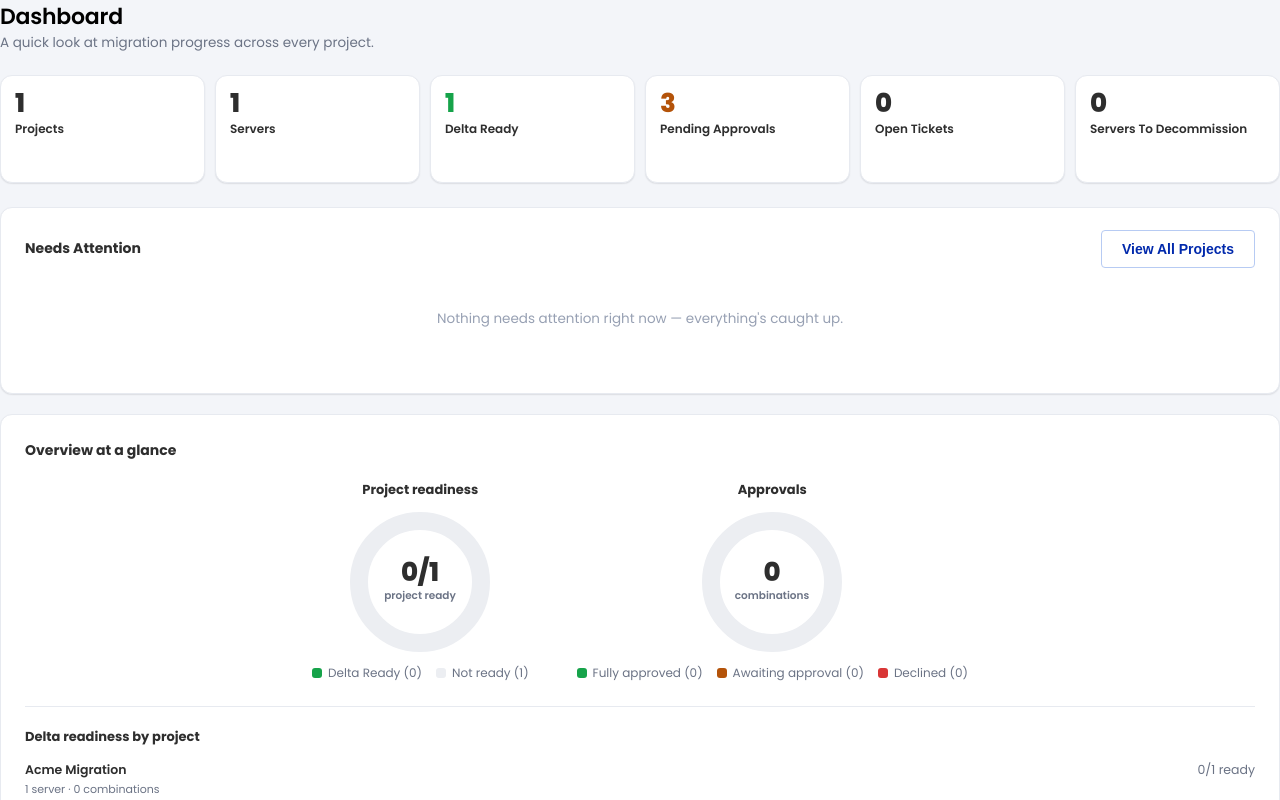
Dashboard server popups › the Delta Ready list names only the ready combinations, not all of them
The image size is (1280, 800).
Expected: the heading "Dashboard" is shown, left=0, top=1, right=123, bottom=32
Click the button "1 Delta Ready".
click(532, 129)  # box left=430, top=75, right=635, bottom=183
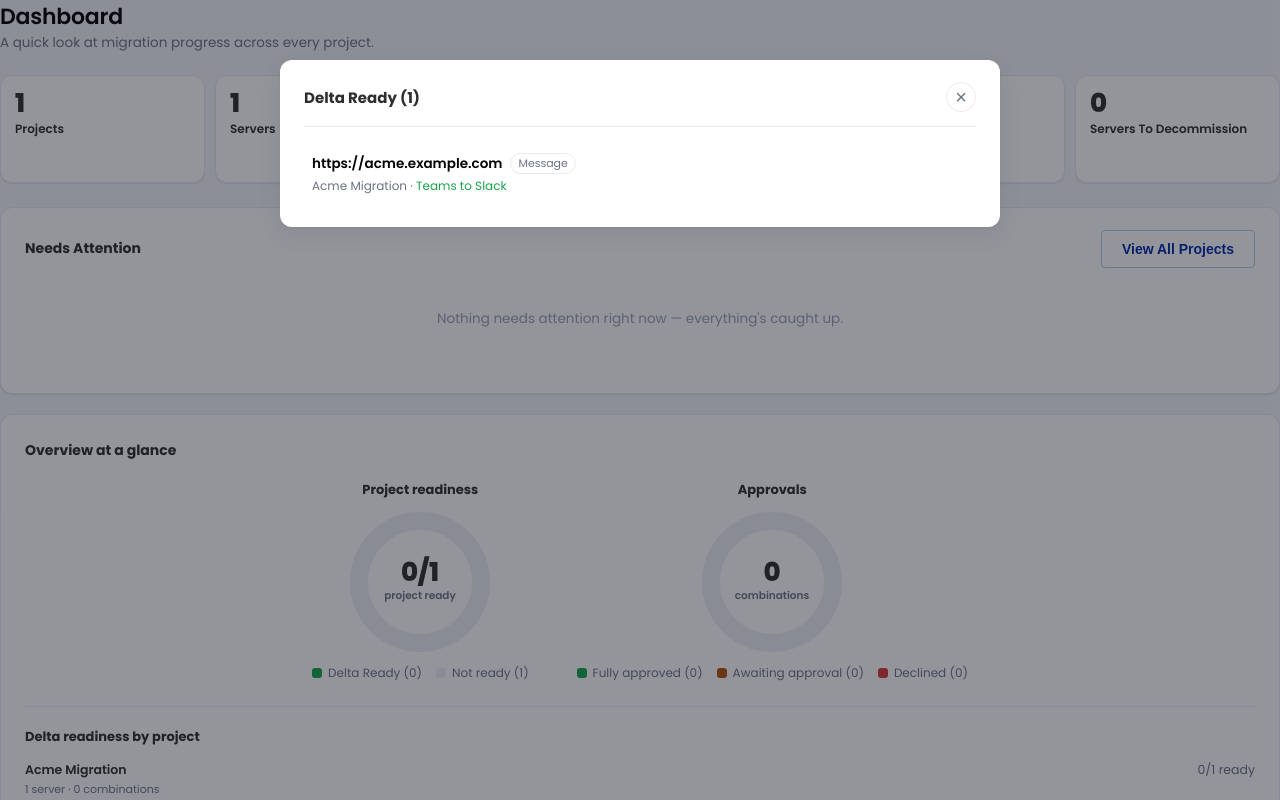
Expected: the text "Teams to Slack" is shown, left=407, top=177, right=507, bottom=194
